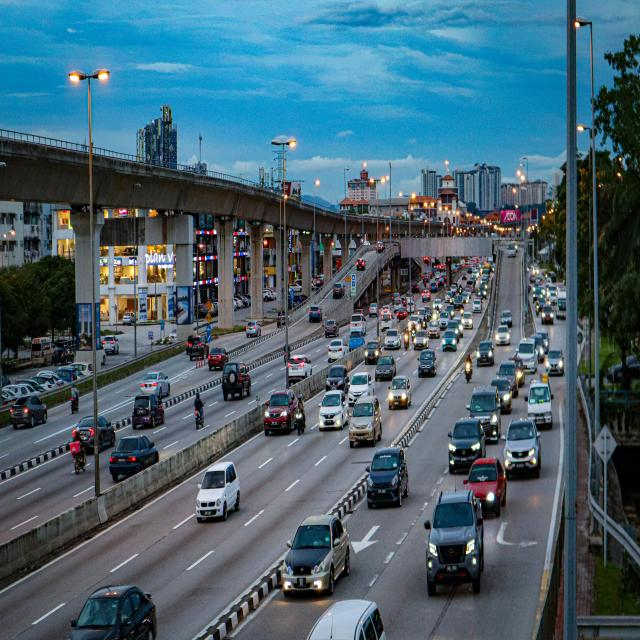Car: (424, 488, 484, 596), (281, 514, 350, 596), (68, 584, 158, 640), (306, 599, 386, 640), (196, 461, 240, 522), (366, 446, 409, 508), (463, 457, 507, 517), (109, 434, 159, 482), (503, 418, 541, 478), (448, 417, 486, 474), (466, 386, 501, 443), (264, 389, 305, 435), (349, 395, 382, 448), (72, 416, 116, 454), (524, 380, 553, 429), (10, 394, 48, 429), (318, 389, 349, 431), (132, 393, 164, 430), (222, 362, 251, 401), (496, 360, 519, 398), (348, 372, 372, 406), (140, 371, 170, 398), (490, 377, 512, 413), (388, 376, 411, 410), (287, 355, 312, 382), (326, 366, 350, 392), (375, 354, 396, 382), (417, 350, 437, 378), (545, 348, 564, 376), (328, 338, 348, 363), (208, 347, 228, 371), (364, 339, 382, 365), (476, 340, 494, 366), (442, 329, 458, 352), (495, 324, 511, 346), (413, 329, 429, 351), (348, 330, 364, 352), (384, 329, 401, 349), (102, 335, 119, 355), (324, 319, 339, 338), (541, 304, 554, 325), (246, 320, 261, 338), (426, 319, 440, 338), (309, 306, 322, 322), (500, 310, 512, 327), (122, 312, 135, 325), (333, 283, 344, 298), (472, 298, 482, 313), (369, 302, 378, 317), (375, 241, 385, 253), (356, 258, 365, 270)
Motorcycle: (71, 445, 87, 475), (296, 404, 306, 436), (194, 402, 204, 430), (464, 355, 473, 382), (70, 391, 79, 415)
